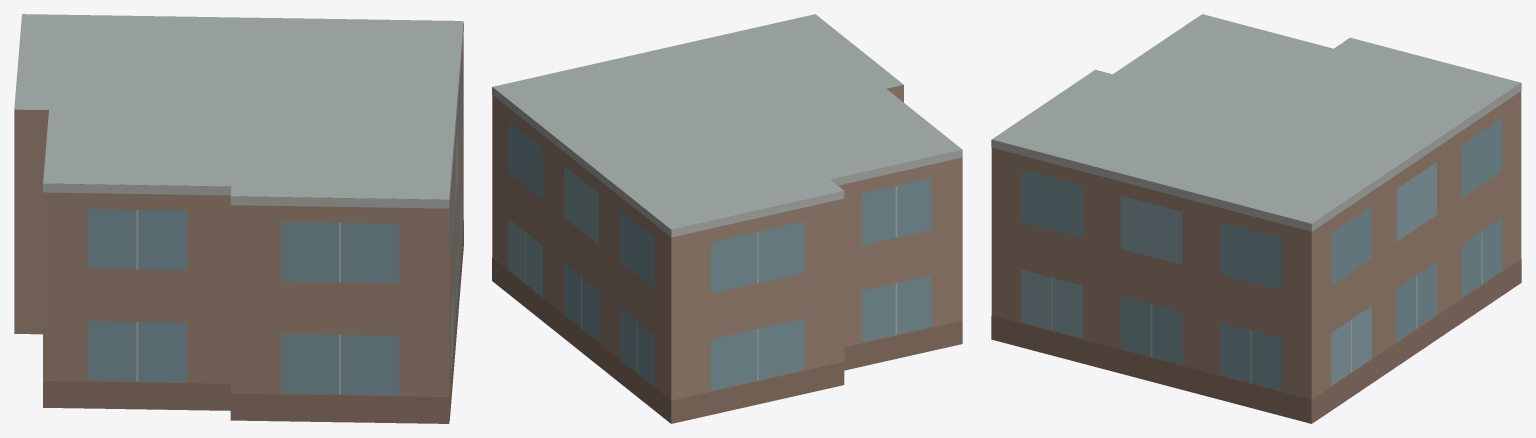
The model's file is survey-upis-32937763.glb.
The picture shows the model from 3 angles, left to right: view 1: azimuth 30°, elevation 25°; view 2: azimuth 150°, elevation 25°; view 3: azimuth 270°, elevation 25°; orthographic projection. The views are drawn at different scales.
Parts seen in each view (by area): view 1: survey-upis-32937763.tmp; view 2: survey-upis-32937763.tmp; view 3: survey-upis-32937763.tmp.
Part boxes in pixels (bbox=[...]): survey-upis-32937763.tmp: bbox=[14, 14, 463, 423]; survey-upis-32937763.tmp: bbox=[492, 14, 962, 423]; survey-upis-32937763.tmp: bbox=[991, 14, 1521, 423].
Bounding box in the file's own units: 13.73 × 6.1 × 14.65.
